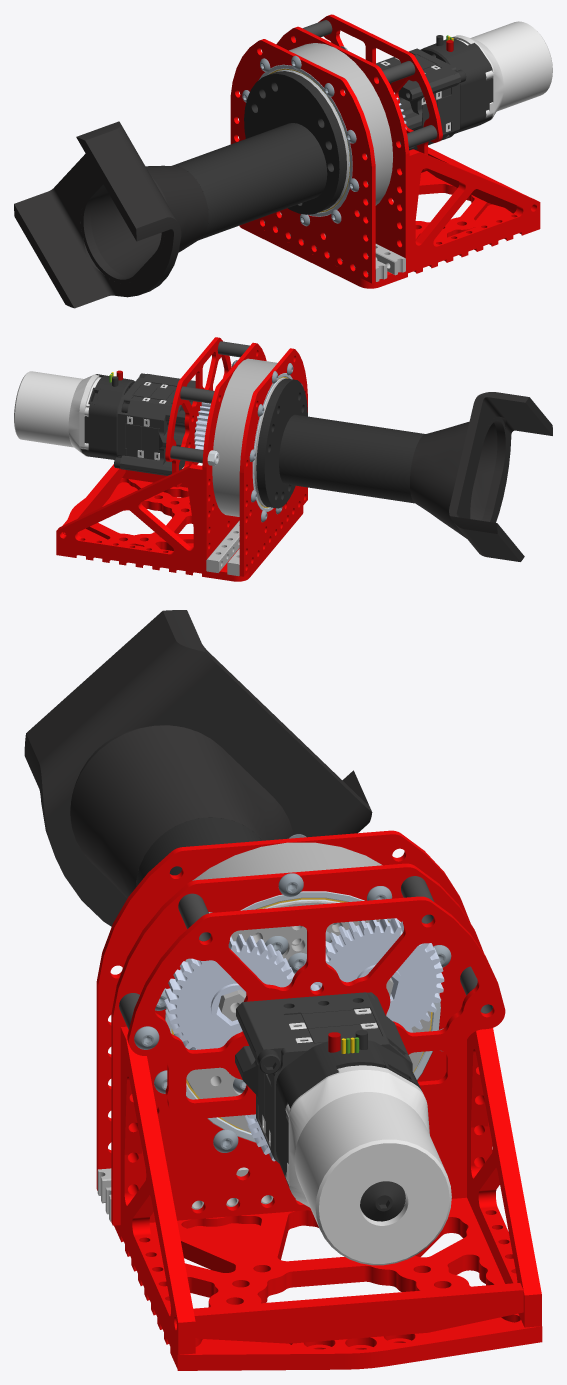
3 renders of one model, top to bottom at view 1: azimuth 30°, elevation 25°; view 2: azimuth 150°, elevation 25°; view 3: azimuth 270°, elevation 25°, orthographic. The views are drawn at different scales.
Visible parts, largest first — view 1: Mounting Plate (×2), Claw, pipe base, flare, claw-cycloidal mount, clibmer support, id131, Climber spin plate (1/4), Part 1, SPARK Flex Brushless Motor Controller, motor plate, REV MAXPlanetary Brake (+8 smaller); view 2: pipe base, Mounting Plate (×2), flare, Claw, clibmer support (×2), Climber spin plate (1/4), id131, Part 1, claw-cycloidal mount, SPARK Flex Brushless Motor Controller, motor plate, REV MAXPlanetary Brake (+9 smaller); view 3: Mounting Plate (×2), Claw, Climber spin plate (1/4), motor plate, clibmer support (×2), id131, flare, 36t 20dp Aluminum 1/2" Hex Bore Gear (217-3214) (×2), Part 12, SPARK Flex Brushless Motor Controller, Part 1, maxspline plate (+7 smaller).
Part boxes in pixels (bbox=[...]): Mounting Plate (×2): bbox=[230, 26, 409, 283]; Claw: bbox=[14, 121, 181, 308]; pipe base: bbox=[172, 123, 327, 240]; flare: bbox=[80, 165, 208, 283]; claw-cycloidal mount: bbox=[244, 71, 346, 214]; clibmer support: bbox=[401, 149, 540, 266]; id131: bbox=[452, 21, 552, 123]; Climber spin plate (1/4): bbox=[239, 170, 540, 288]; Part 1: bbox=[289, 43, 392, 213]; SPARK Flex Brushless Motor Controller: bbox=[420, 35, 493, 133]; motor plate: bbox=[318, 14, 442, 172]; REV MAXPlanetary Brake: bbox=[394, 51, 457, 144]; pipe base: bbox=[279, 414, 425, 503]; Mounting Plate (×2): bbox=[202, 342, 307, 576]; flare: bbox=[410, 416, 506, 538]; Claw: bbox=[449, 392, 552, 561]; clibmer support (×2): bbox=[56, 464, 202, 568]; Climber spin plate (1/4): bbox=[56, 478, 303, 581]; id131: bbox=[14, 371, 99, 456]; Part 1: bbox=[212, 358, 277, 516]; claw-cycloidal mount: bbox=[256, 378, 307, 508]; SPARK Flex Brushless Motor Controller: bbox=[81, 370, 134, 459]; motor plate: bbox=[165, 337, 231, 487]; REV MAXPlanetary Brake: bbox=[124, 374, 167, 471]; Mounting Plate (×2): bbox=[96, 830, 492, 1225]; Claw: bbox=[24, 610, 372, 926]; Climber spin plate (1/4): bbox=[114, 1197, 542, 1370]; motor plate: bbox=[127, 896, 505, 1119]; clibmer support (×2): bbox=[120, 1026, 541, 1354]; id131: bbox=[285, 1065, 451, 1265]; flare: bbox=[70, 725, 293, 898]; 36t 20dp Aluminum 1/2" Hex Bore Gear (217-3214) (×2): bbox=[164, 918, 444, 1049]; Part 12: bbox=[193, 1283, 523, 1343]; SPARK Flex Brushless Motor Controller: bbox=[276, 1030, 421, 1188]; Part 1: bbox=[192, 842, 382, 880]; maxspline plate: bbox=[174, 900, 430, 1132].
Size of the model in its own units: 0.3913 by 0.144 by 0.1867.
